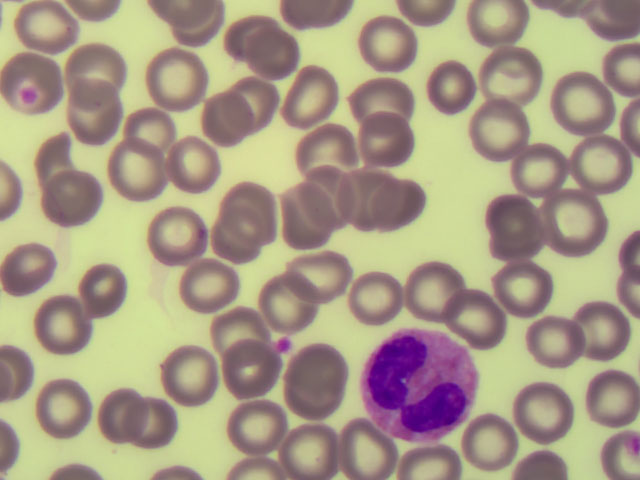Platelets: (273, 336, 293, 352)
RBC: (333, 420, 398, 480), (456, 408, 521, 468), (14, 1, 79, 60), (62, 89, 127, 148), (66, 39, 131, 98), (142, 55, 207, 114), (204, 12, 269, 71), (248, 24, 313, 83), (280, 67, 345, 126), (222, 75, 287, 134), (186, 92, 251, 151), (168, 132, 233, 191), (113, 95, 178, 154), (103, 145, 168, 204), (53, 170, 118, 229), (24, 133, 89, 192), (2, 237, 67, 296), (27, 297, 92, 356), (67, 262, 132, 321), (151, 208, 216, 267), (171, 255, 236, 314), (201, 211, 266, 270), (219, 174, 284, 233), (264, 185, 329, 244), (304, 164, 369, 223), (294, 124, 359, 183), (348, 108, 413, 167), (354, 77, 419, 136), (354, 13, 419, 72), (422, 56, 487, 115), (364, 171, 429, 230), (473, 47, 538, 106), (553, 74, 618, 133), (562, 133, 627, 192), (496, 138, 561, 197), (466, 103, 531, 162), (545, 191, 610, 250), (478, 196, 543, 255), (496, 261, 561, 320), (457, 285, 522, 344), (399, 263, 464, 322), (347, 267, 412, 326), (293, 246, 358, 305), (260, 270, 325, 329), (202, 298, 267, 357), (211, 333, 276, 392), (154, 347, 219, 406), (130, 392, 195, 451), (79, 386, 144, 445), (33, 380, 98, 439), (225, 393, 290, 452), (289, 330, 354, 389), (277, 370, 342, 429), (277, 418, 342, 477), (508, 382, 573, 441), (575, 371, 640, 430), (514, 308, 579, 367), (568, 302, 633, 361), (1, 48, 65, 107), (468, 1, 533, 59), (394, 435, 465, 480), (582, 3, 640, 40)
WBC: (360, 320, 481, 448)
